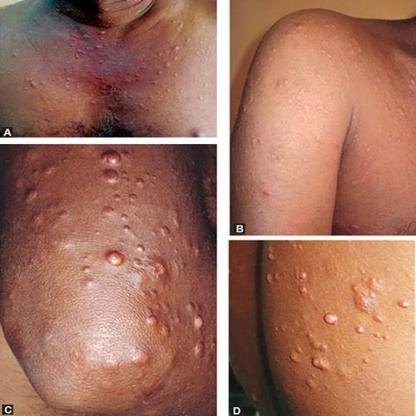Hansen-s Disease-Leprosy: (54, 29, 179, 81), (257, 70, 327, 108), (351, 273, 387, 322)
Hansen-s Disease-Leprosy- severe: (104, 237, 169, 282), (183, 299, 207, 369), (92, 149, 128, 192)
